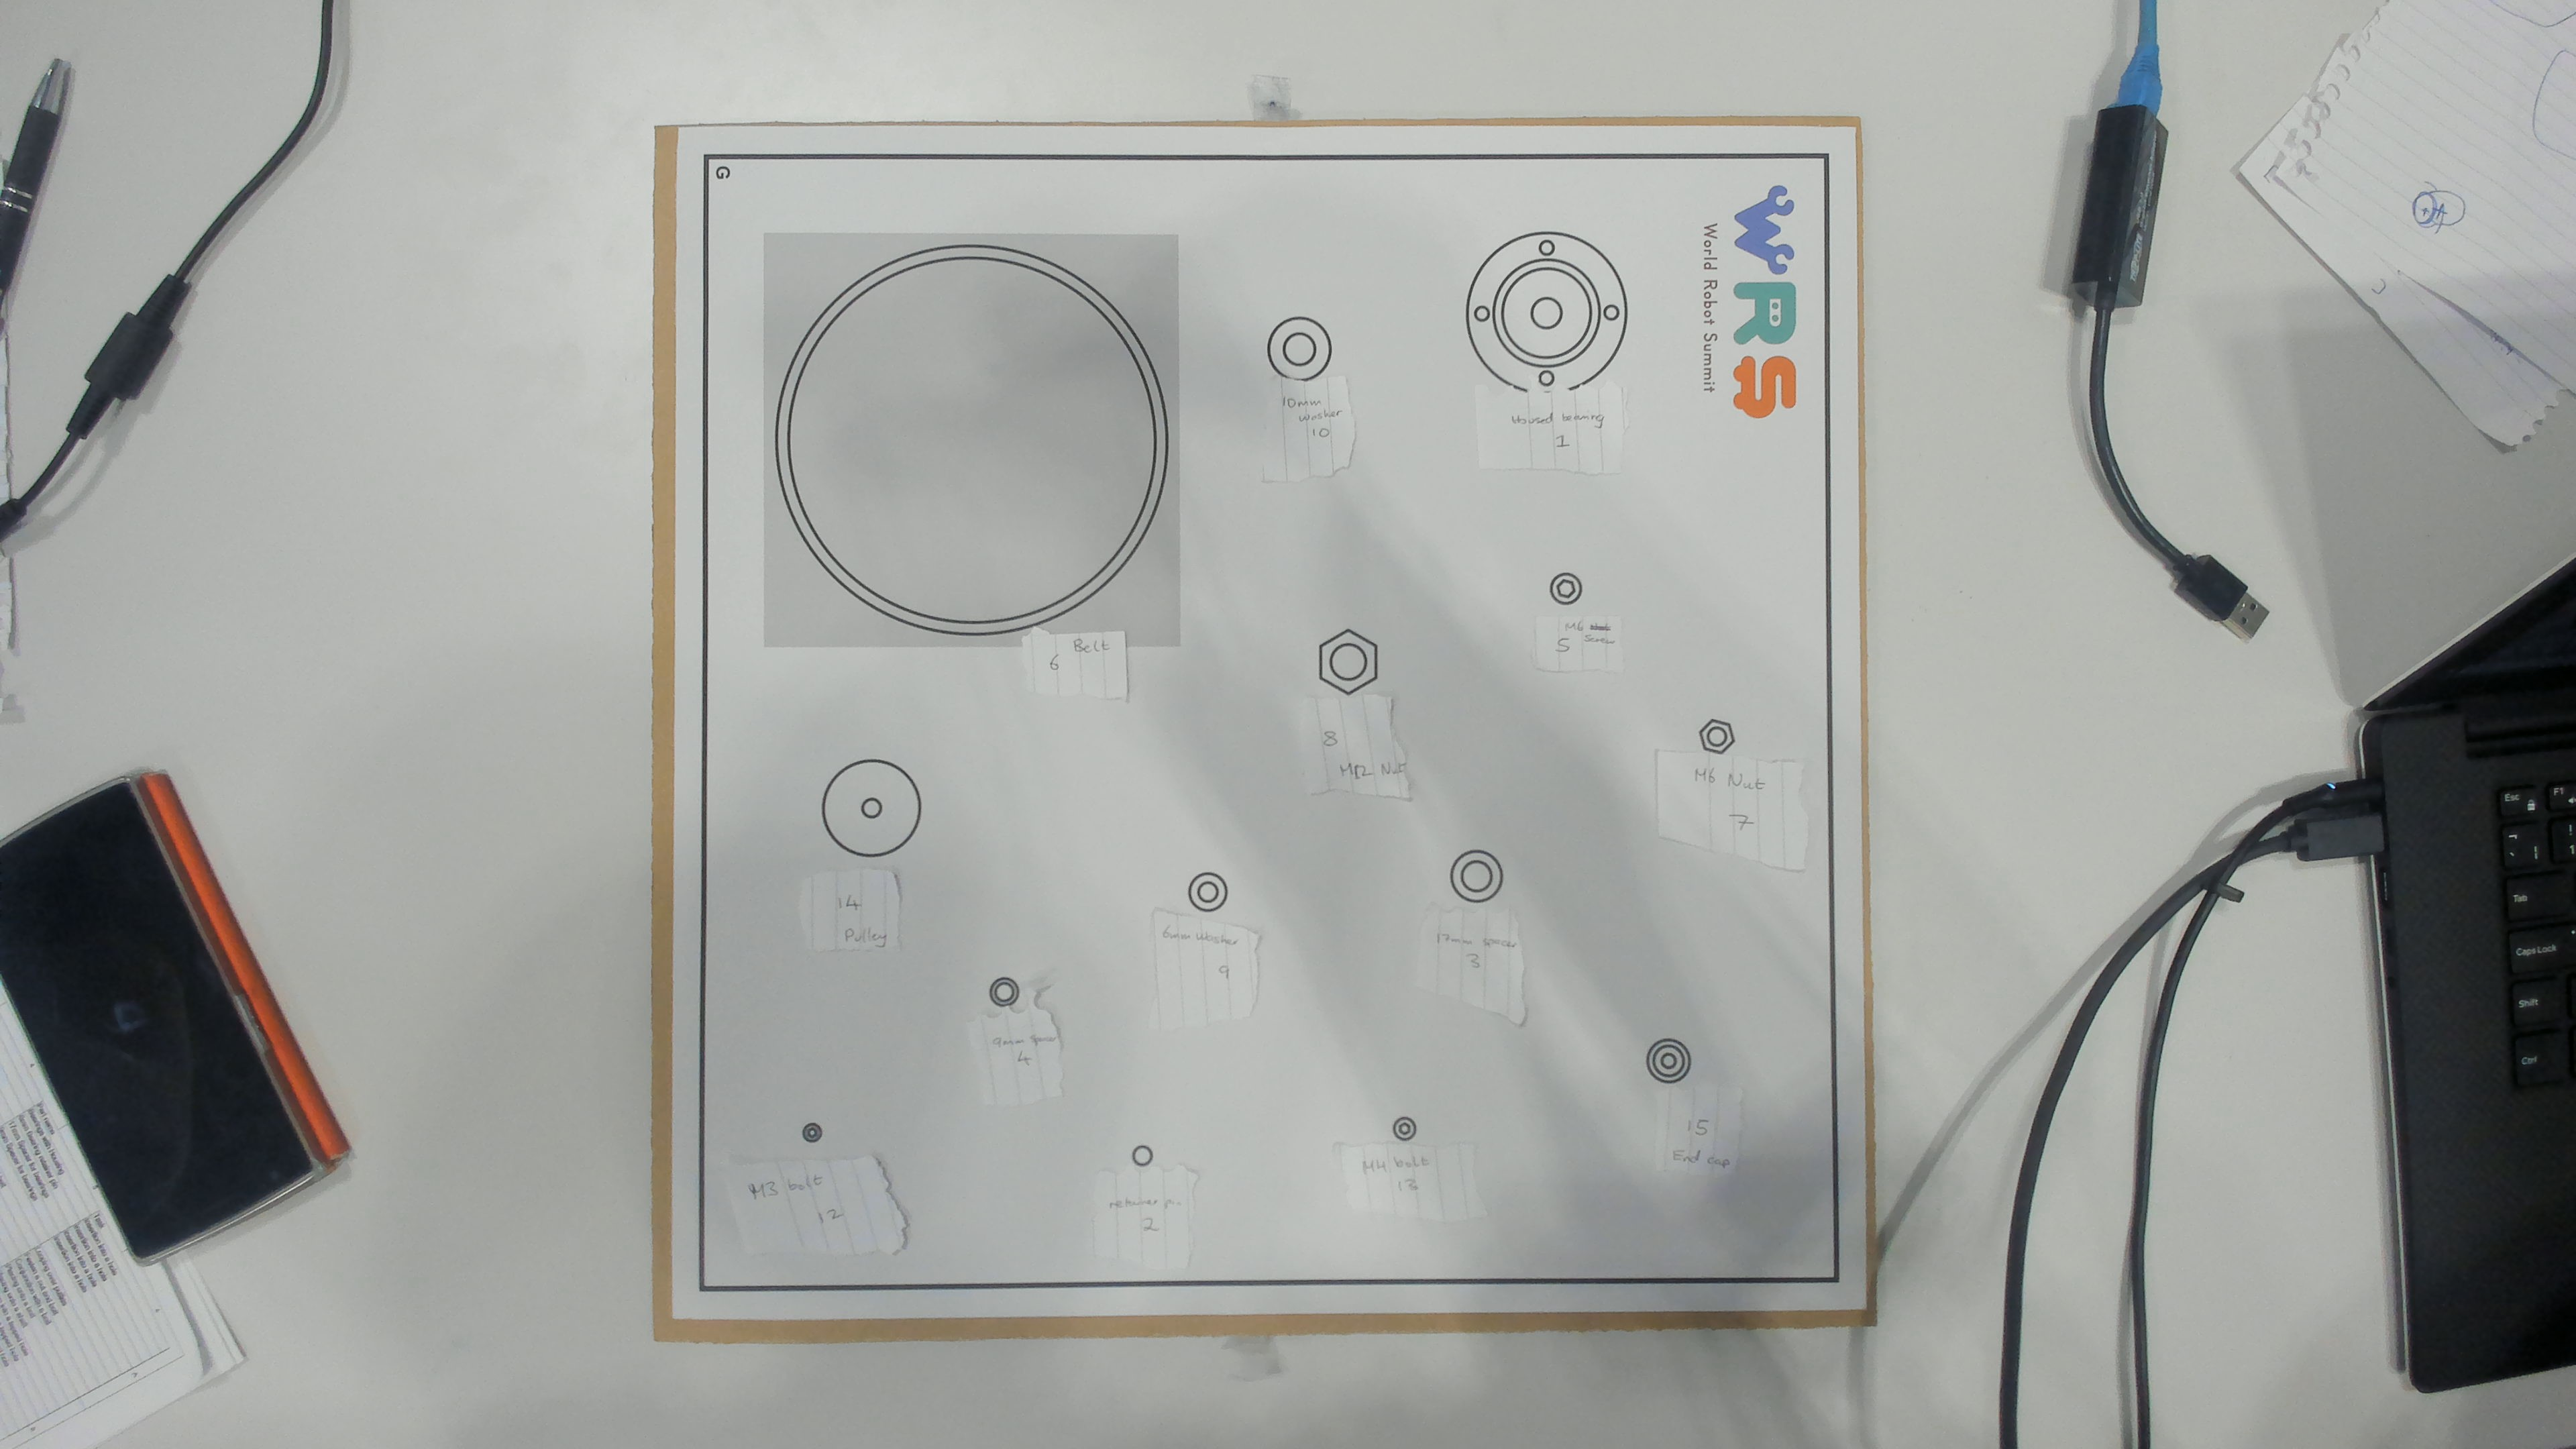1: (1467, 232, 1628, 395)
10: (1270, 315, 1330, 380)
12: (801, 1122, 824, 1148)
13: (1394, 1111, 1415, 1143)
14: (816, 759, 924, 860)
15: (1647, 1037, 1690, 1083)
2: (1132, 1141, 1155, 1168)
3: (1449, 846, 1502, 901)
4: (991, 977, 1021, 1008)
5: (1550, 571, 1582, 605)
6: (768, 237, 1177, 649)
7: (1700, 717, 1737, 755)
8: (1315, 630, 1382, 692)
9: (1189, 869, 1228, 913)
board: (708, 157, 1835, 1284)
wrs: (1693, 184, 1806, 421)
